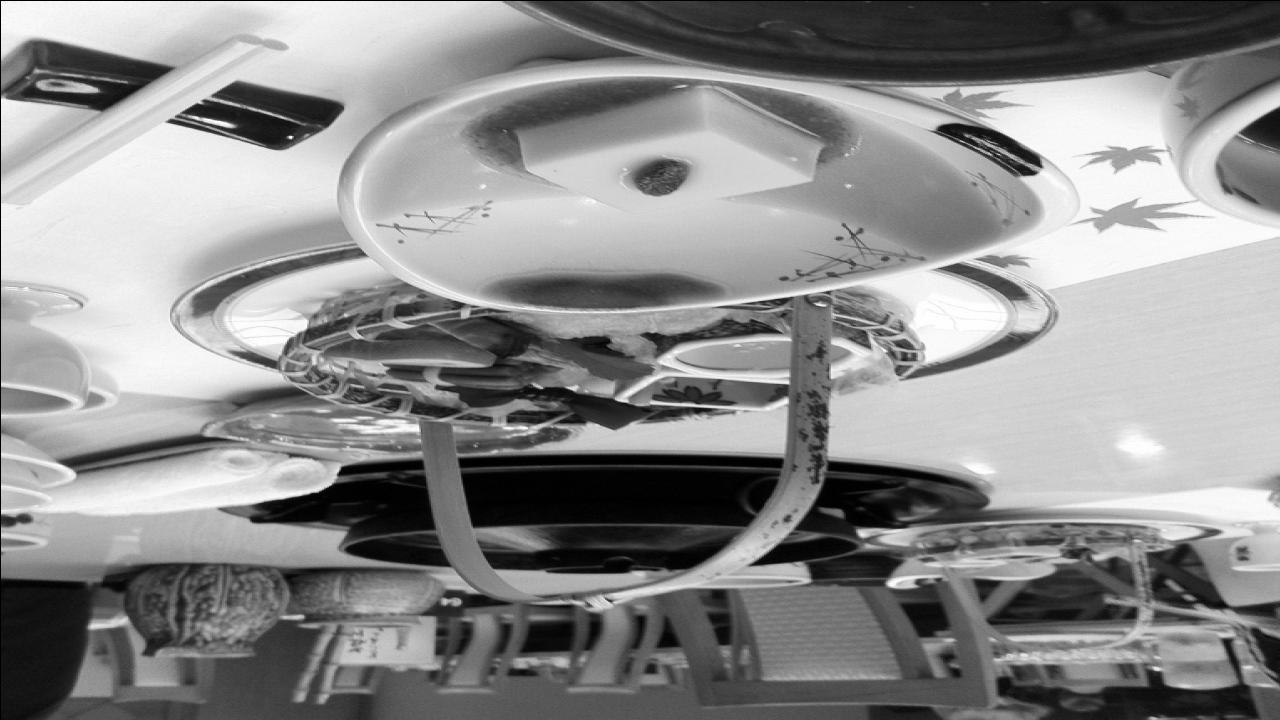chopstick: (0, 35, 276, 202)
